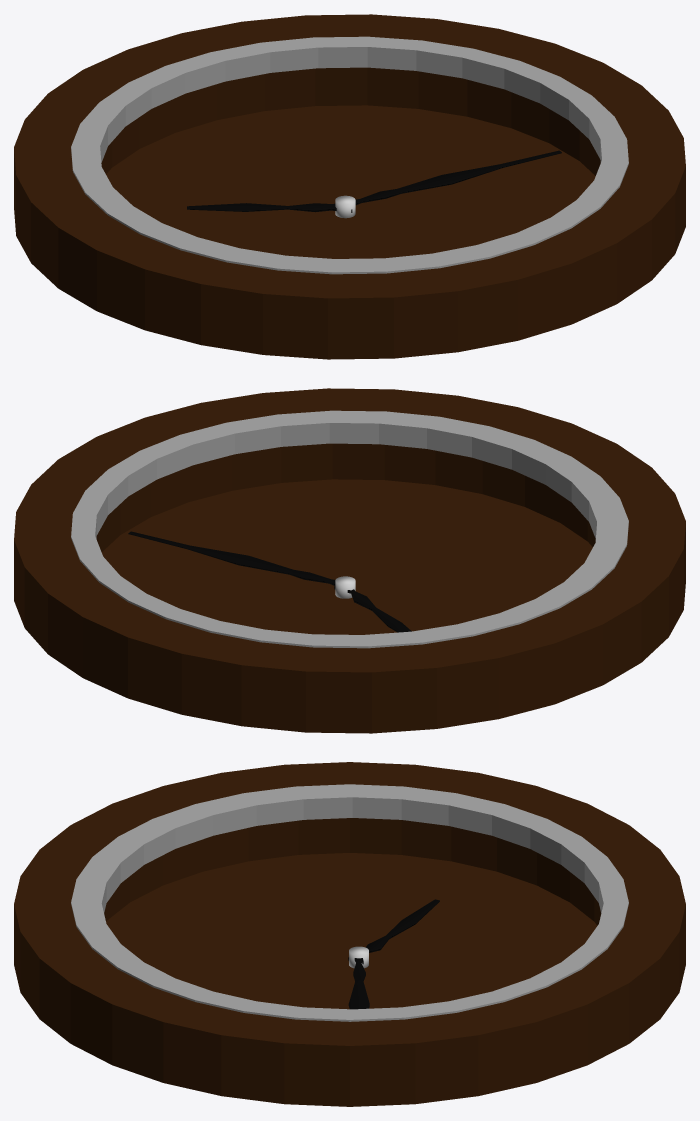
The model's file is Clock1.fbx.
3 renders of one model, top to bottom at view 1: azimuth 30°, elevation 25°; view 2: azimuth 150°, elevation 25°; view 3: azimuth 270°, elevation 25°, orthographic.
Visible parts, largest first — view 1: Circle, metal cover, Cube, Cube.001; view 2: Circle, metal cover, Cube, Cube.001; view 3: Circle, metal cover, Cube.001, Cube.
Boxes of the visible parts, box(x1,y1,x2,y2) form: Circle: box(14, 14, 685, 359); metal cover: box(71, 36, 628, 274); Cube: box(355, 150, 561, 205); Cube.001: box(187, 203, 352, 212); Circle: box(14, 388, 685, 733); metal cover: box(71, 410, 628, 648); Cube: box(128, 531, 335, 585); Cube.001: box(334, 586, 411, 632); Circle: box(14, 762, 685, 1106); metal cover: box(71, 784, 628, 1021); Cube.001: box(348, 899, 439, 964); Cube: box(348, 958, 369, 1009).
Size of the model in its own units: 200 by 21.98 by 200.
